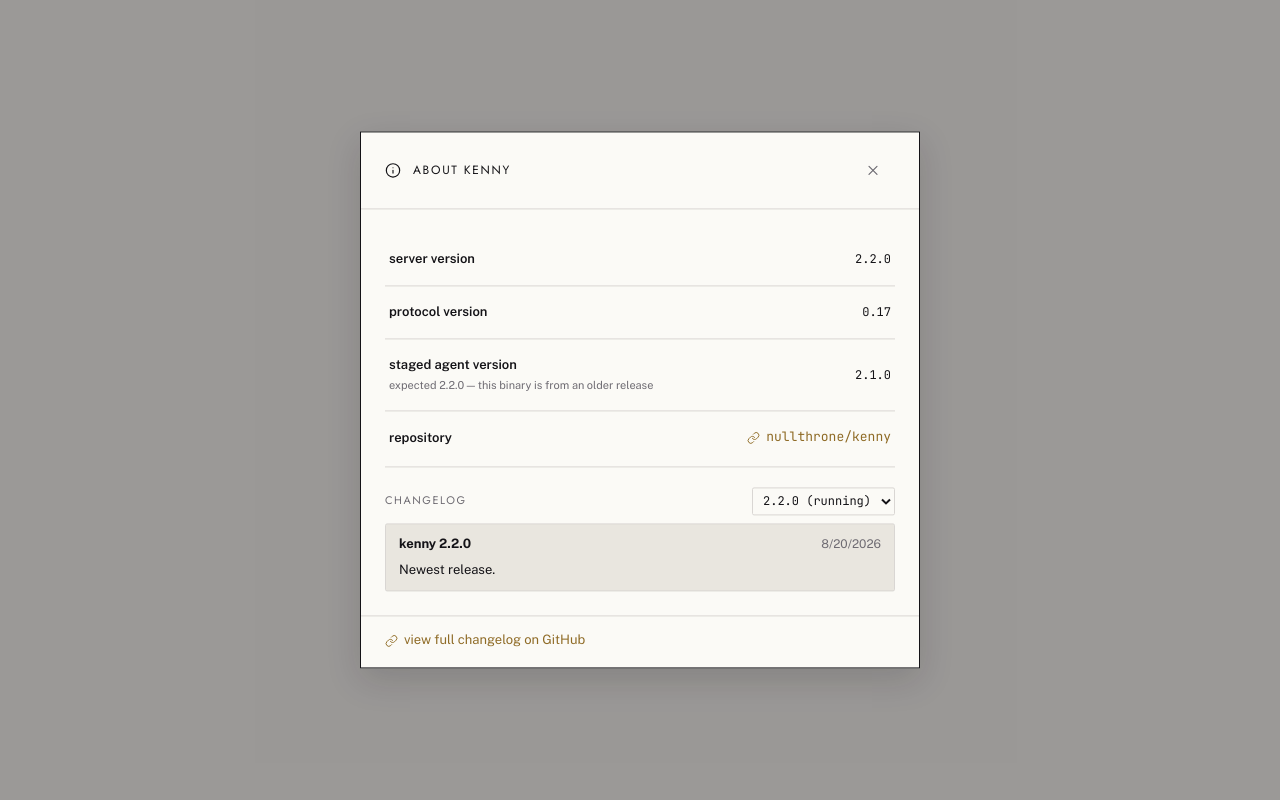
Test case: AboutModal › keeps "all versions" selected once chosen
This screenshot has width=1280, height=800.
Select "all versions" in the dropdown named "Filter release notes by version" at (824, 501), box [752,487,895,515]
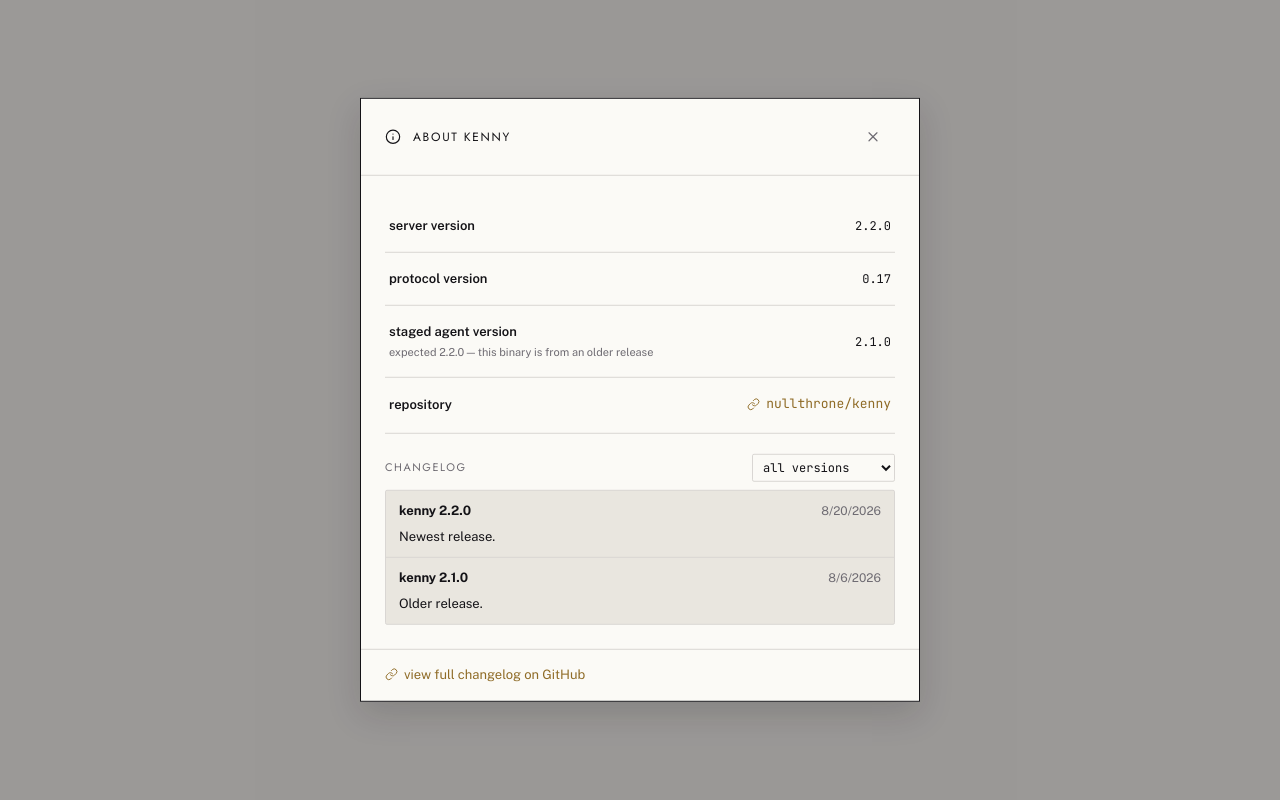
Expected: the text "kenny 2.2.0" is shown, [399,500,471,520]
Expected: the text "kenny 2.1.0" is shown, [399,568,468,588]
